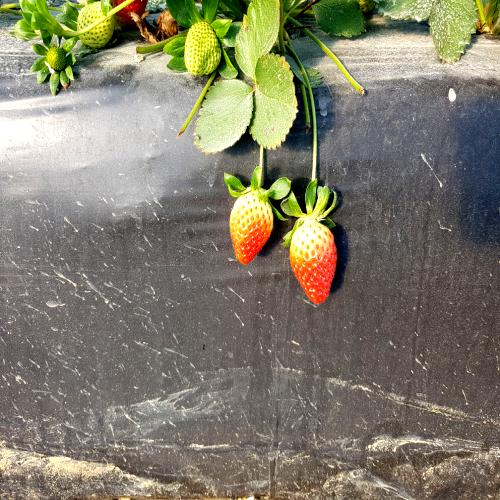partially-ripe: (289, 211, 341, 310), (228, 189, 278, 266)
